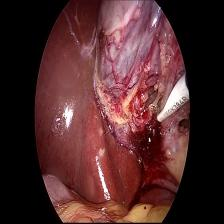Hook: (154, 72, 189, 132)
